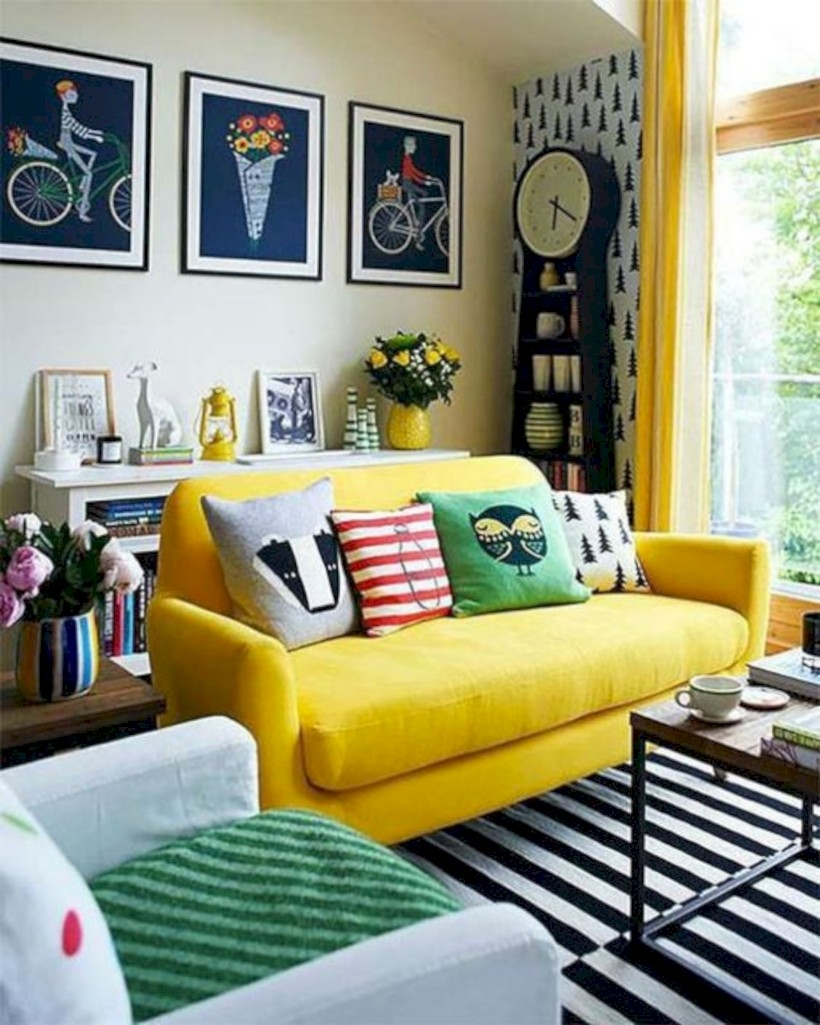hijau: (112, 816, 407, 955), (434, 496, 590, 602)
kuning: (153, 459, 630, 776), (199, 384, 241, 467), (390, 404, 438, 452)
putih: (124, 361, 185, 449)
